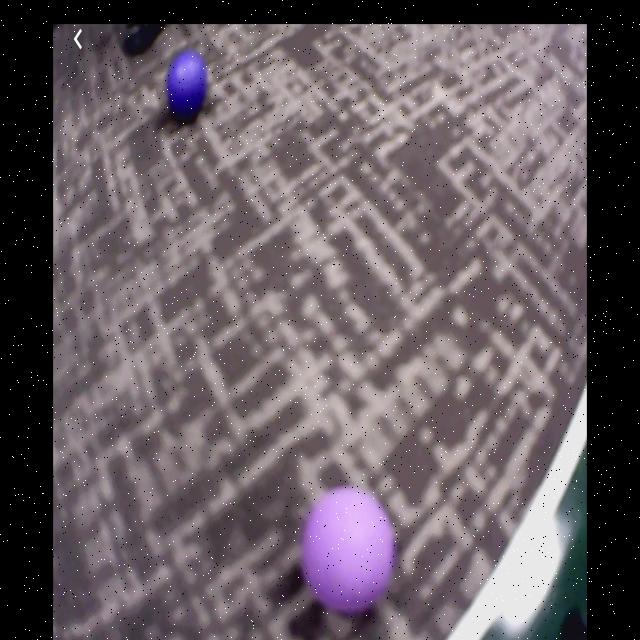ball: (304, 487, 397, 611), (167, 53, 208, 115)
